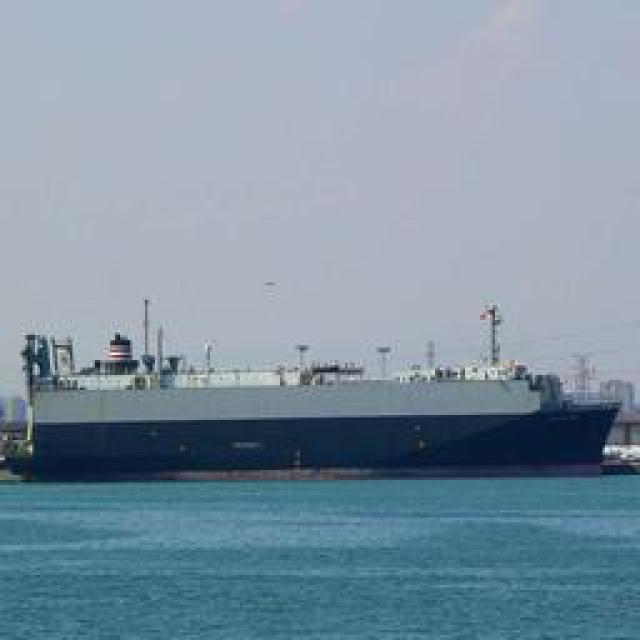Ship: (2, 300, 622, 478)
